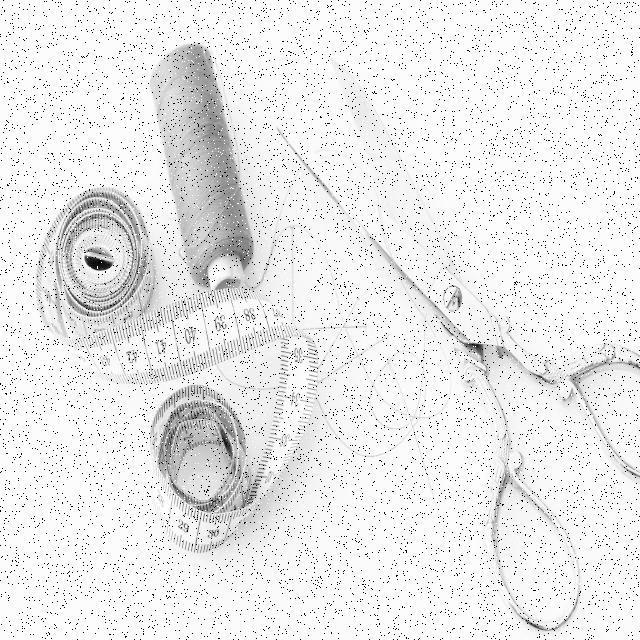scissors: (265, 45, 640, 634)
